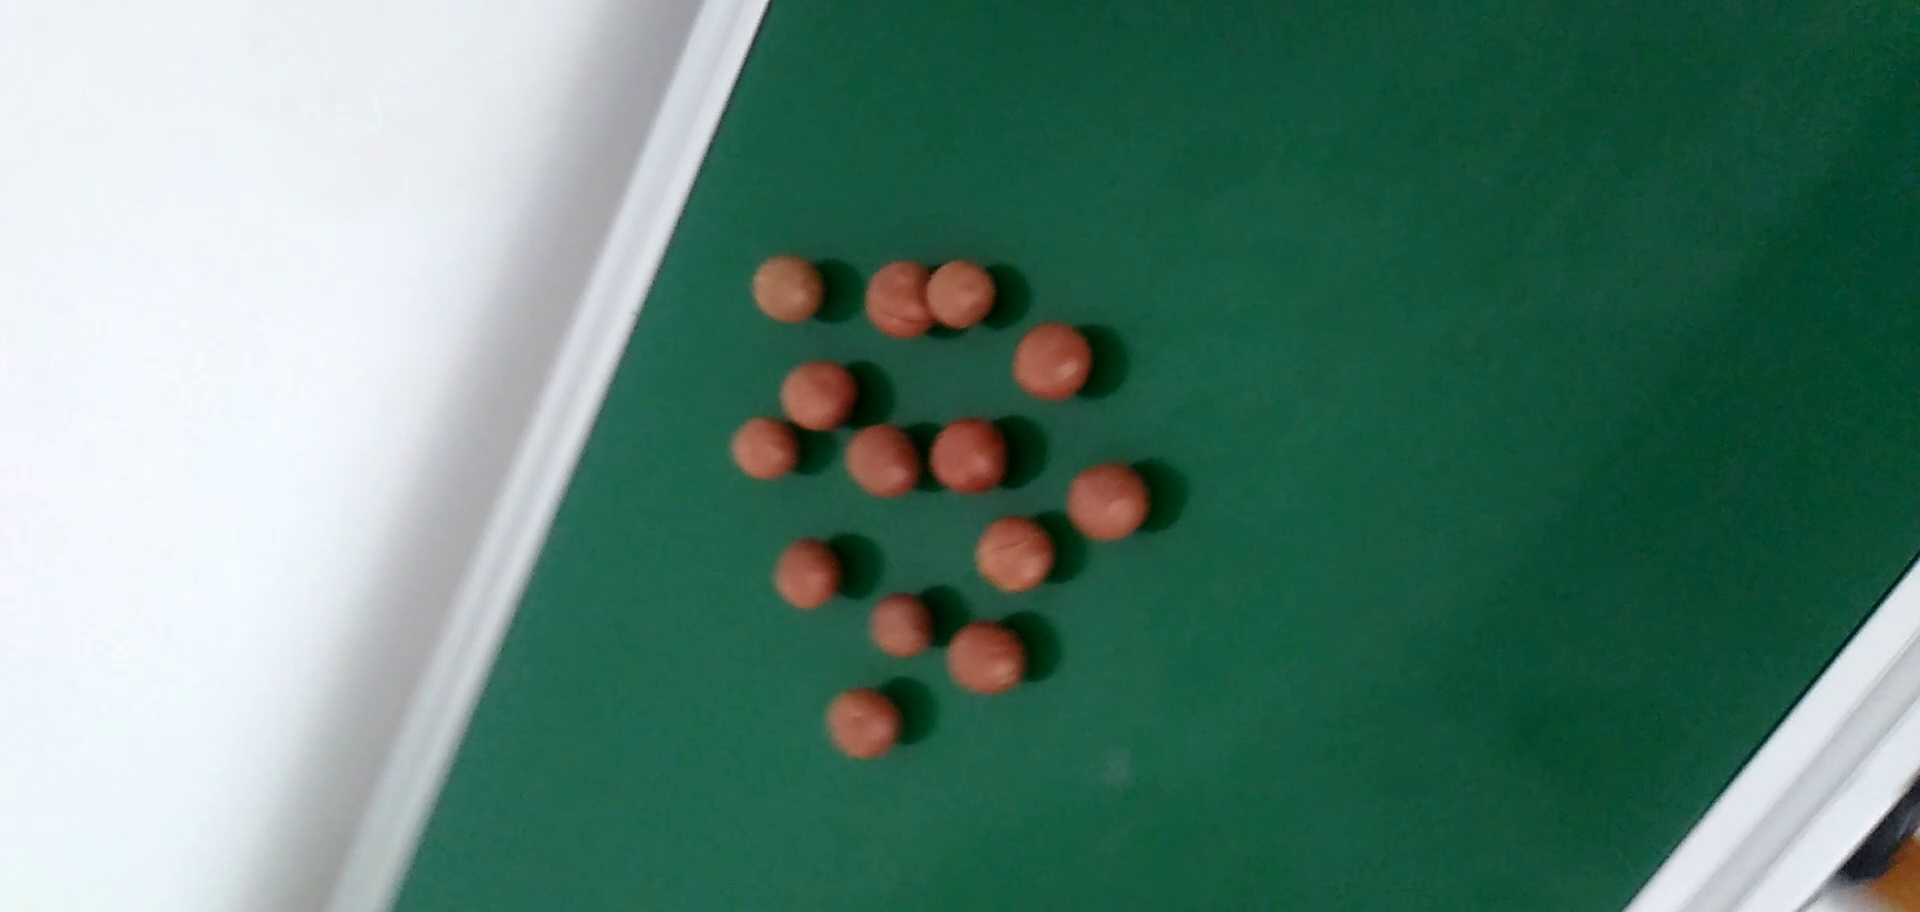mac: (1065, 465, 1147, 540), (1014, 321, 1092, 398), (932, 413, 1005, 492), (863, 262, 939, 337), (972, 520, 1048, 594), (779, 357, 853, 428), (947, 624, 1024, 692), (769, 536, 839, 610), (846, 422, 913, 495), (751, 257, 823, 323), (726, 415, 798, 481), (927, 257, 989, 327), (825, 692, 894, 754), (869, 591, 929, 656)
